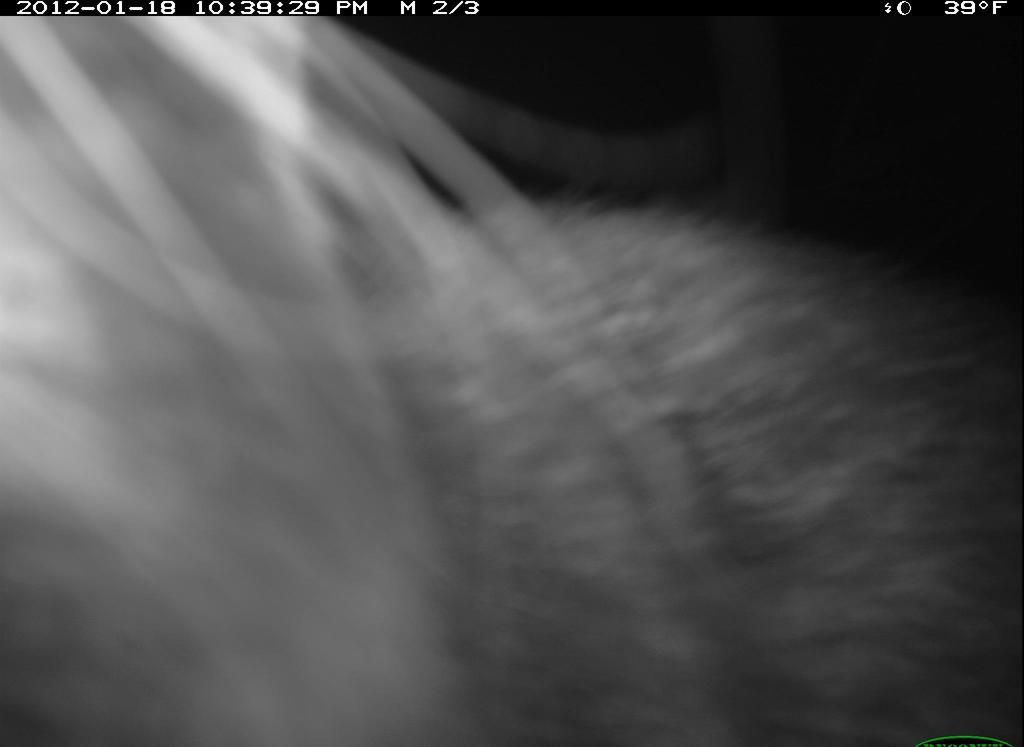raccoon: (7, 8, 1022, 747)
